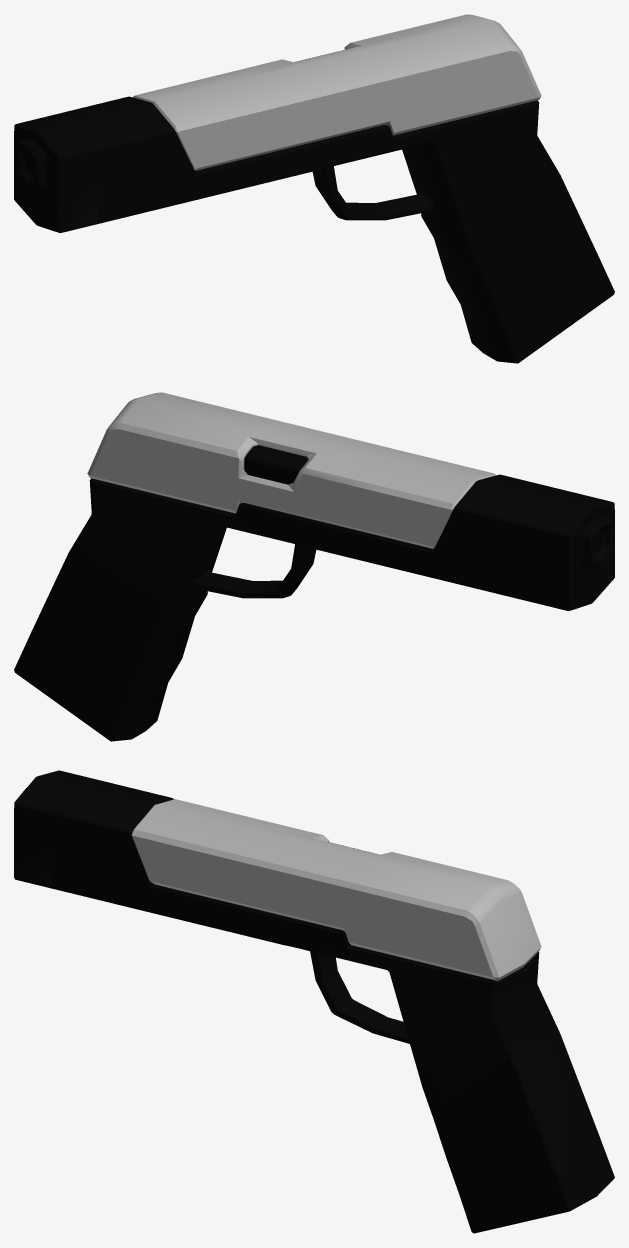
The model's file is pistol_w.fbx.
The picture shows the model from 3 angles, top to bottom: view 1: azimuth 30°, elevation 25°; view 2: azimuth 150°, elevation 25°; view 3: azimuth 330°, elevation 25°; orthographic projection.
Parts seen in each view (by area): view 1: Base, Slide; view 2: Base, Slide; view 3: Base, Slide.
Boxes of the visible parts, x1,y1,x2,y2 form: Base: (14,50,614,363); Slide: (133,14,541,170); Base: (14,445,614,741); Slide: (87,392,495,548); Base: (14,770,614,1233); Slide: (132,799,541,980).
Bounding box in the file's own units: 19.57 × 10.87 × 2.69.
